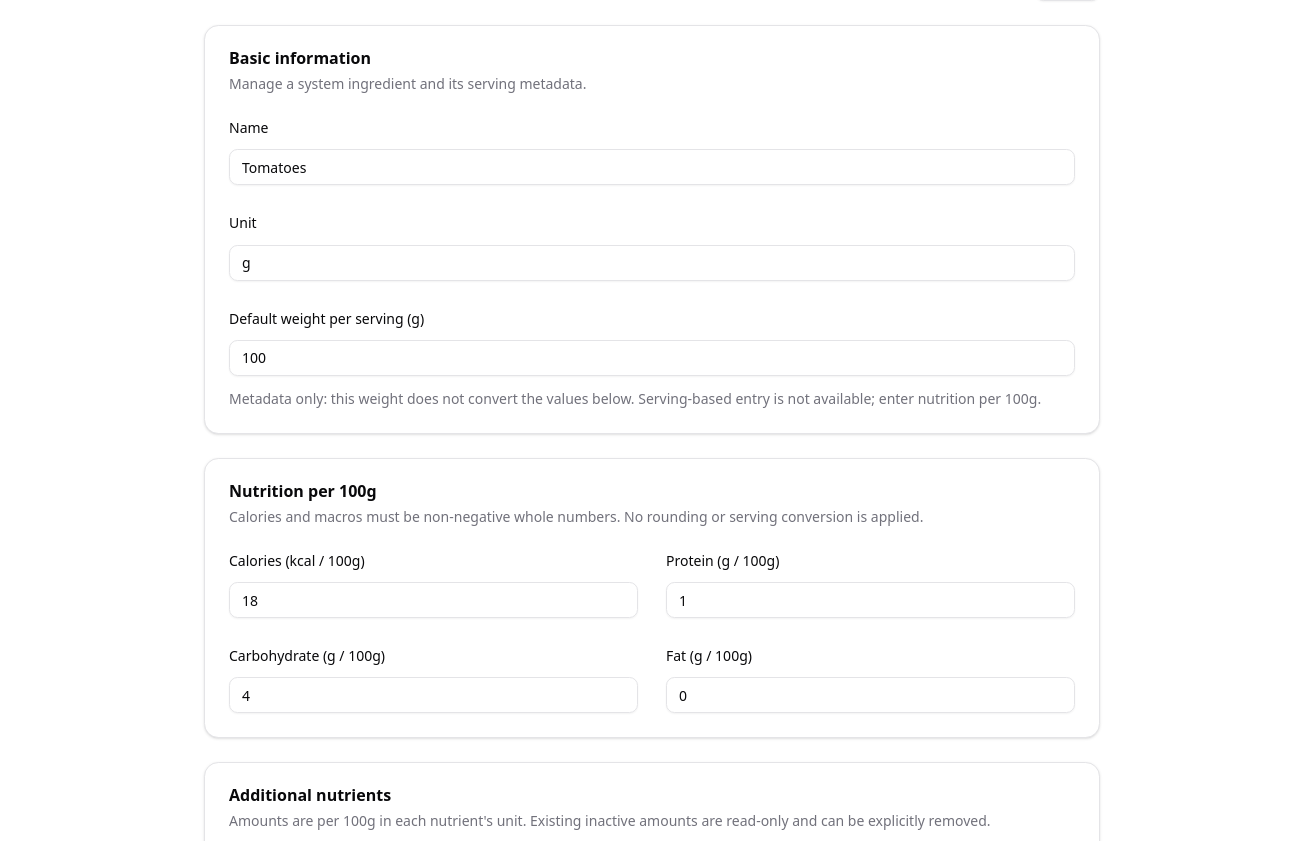
Test case: IngredientFormPage › retains failed-save draft and does not toast or navigate
Step 1. Type " draft" into the field labelled "Name" → (652, 167), box [229,149,1075,185]
(page scrolled)
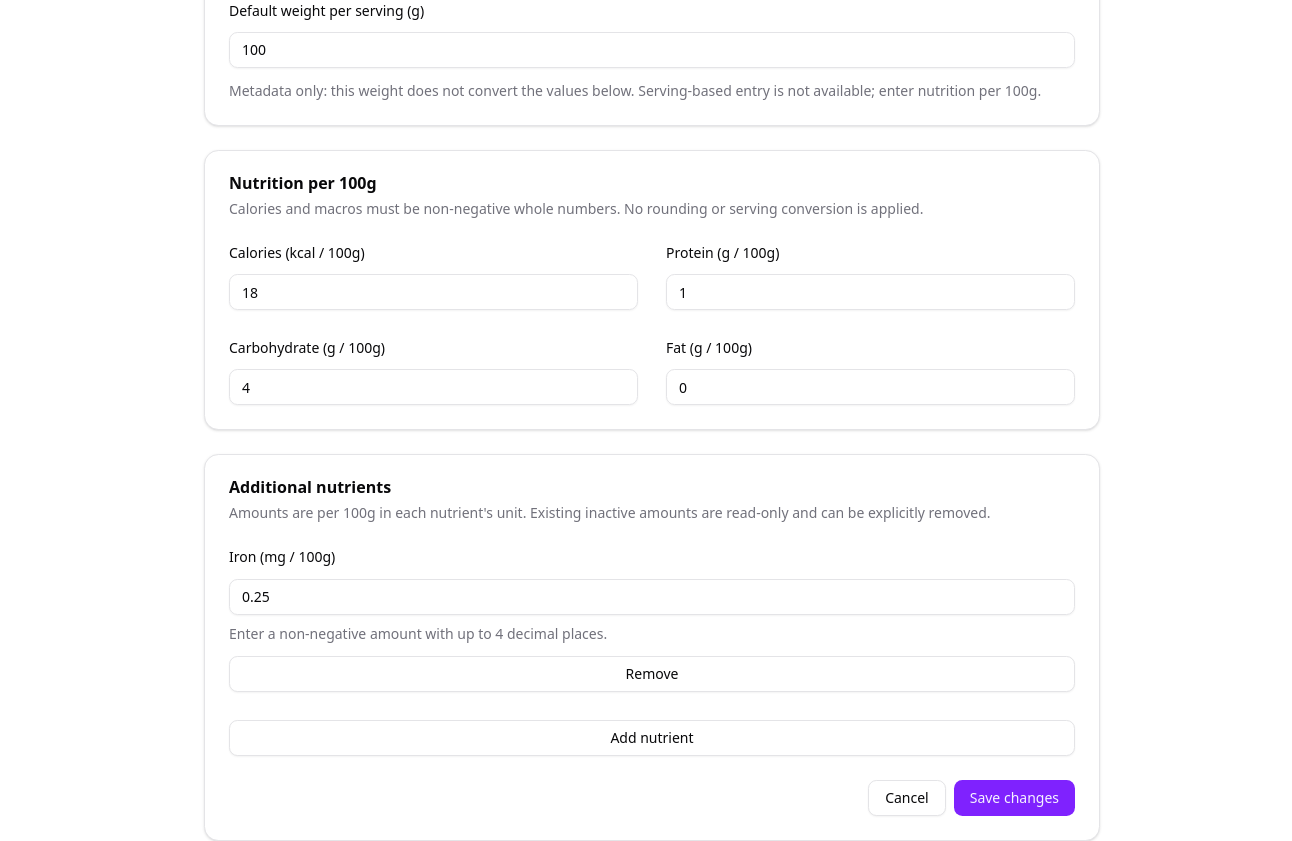
Step 2. Click the button "Save changes" → (1014, 798), box [954,780,1075,816]
(page scrolled)
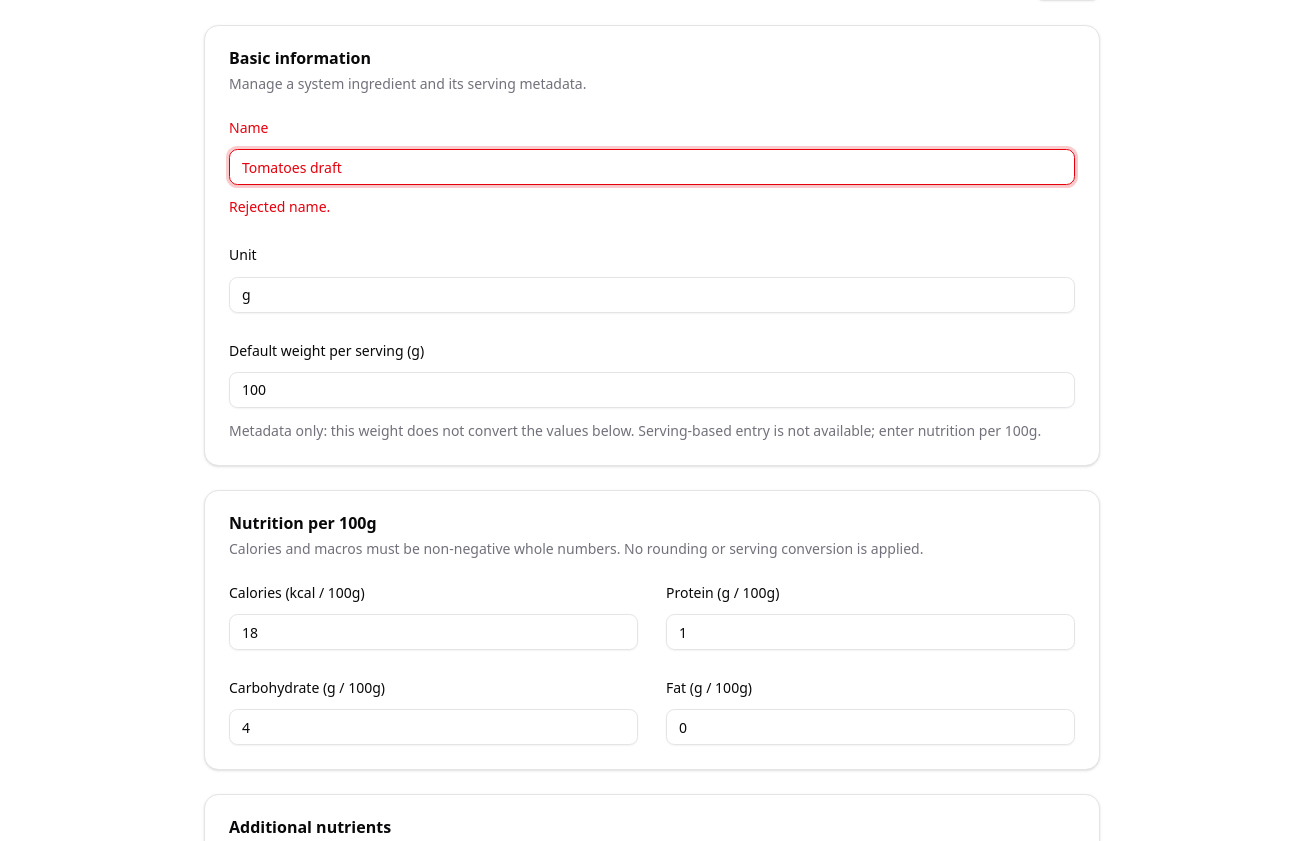
Now the field labelled "Name" holds "Tomatoes draft", box [229,149,1075,185]
Now the text "Rejected name." is shown, box [229,197,330,216]
